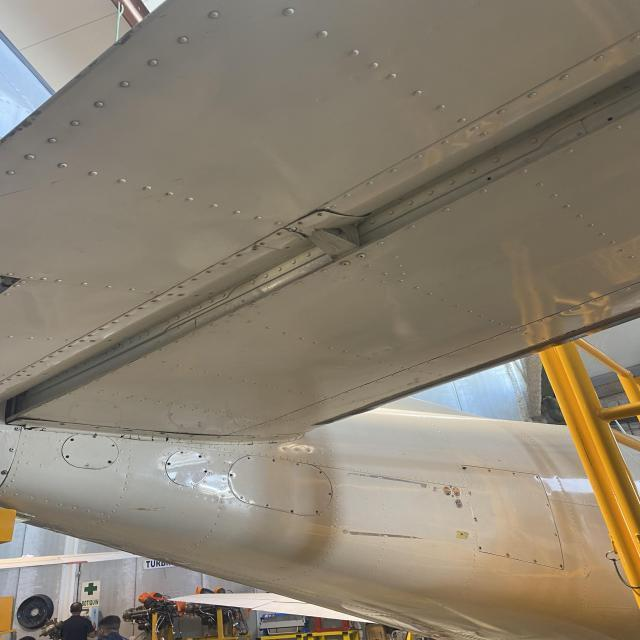Missing_Fastener: (264, 503, 272, 508), (70, 438, 76, 442), (64, 455, 70, 459), (166, 462, 172, 466), (314, 511, 320, 514), (247, 457, 252, 460), (319, 471, 324, 474), (108, 461, 112, 464), (198, 455, 202, 458), (204, 470, 208, 473)
